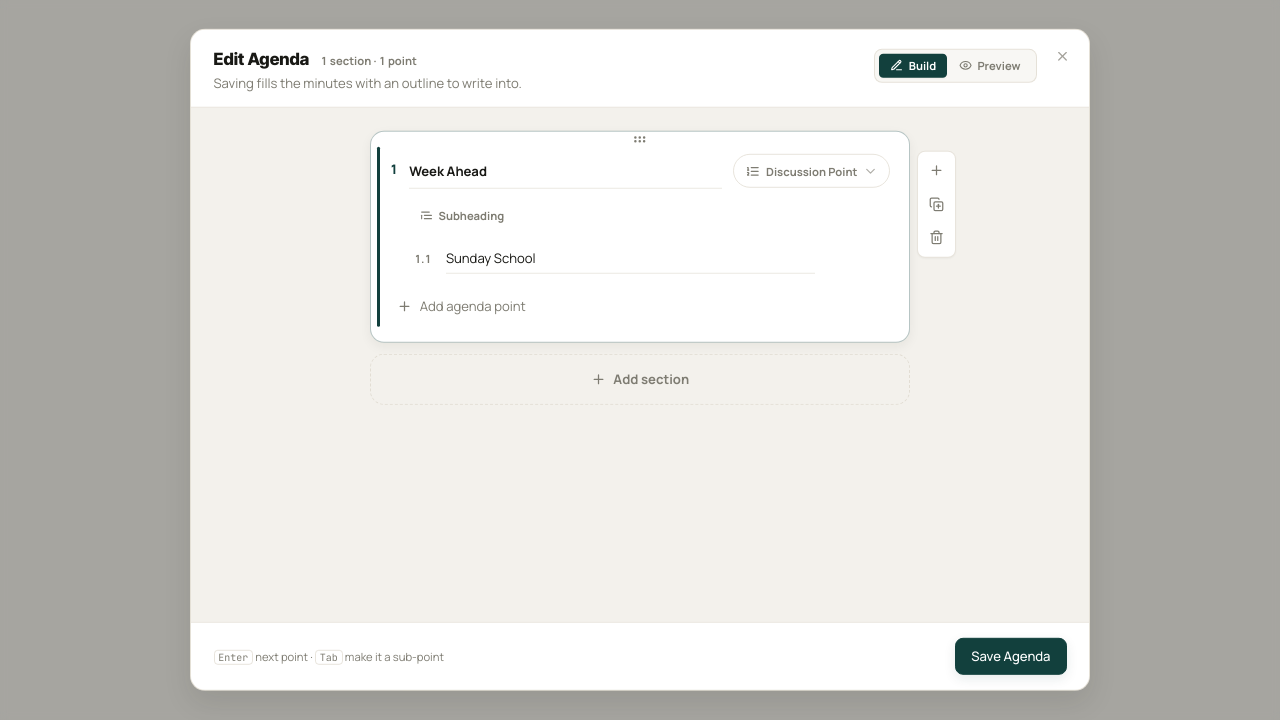
Test case: MeetingAgendaModal › duplicating a section copies it below with fresh ids
What coordinates should you click on to do the following:
click the button named "duplicate section 1"
I would click on:
 (936, 204)
Its box is [921,189,951,219].
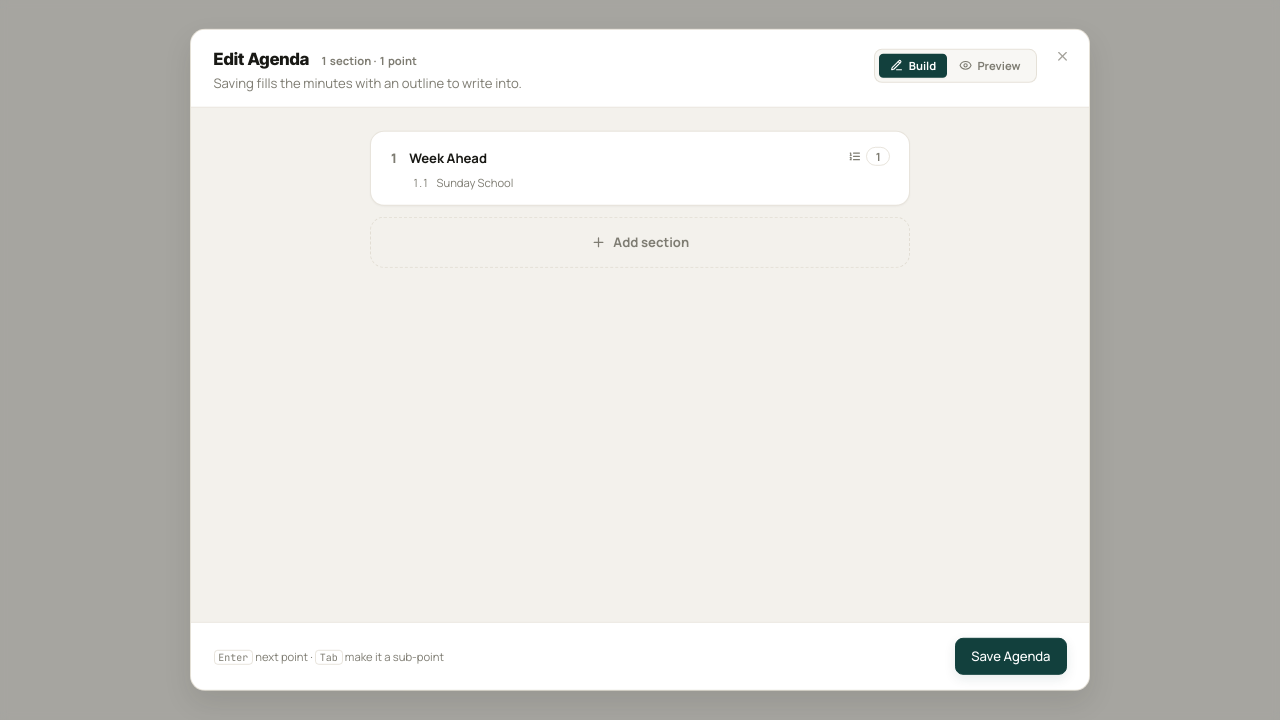
Check: the text "Week Ahead" is shown, box [409,149,487,167]
